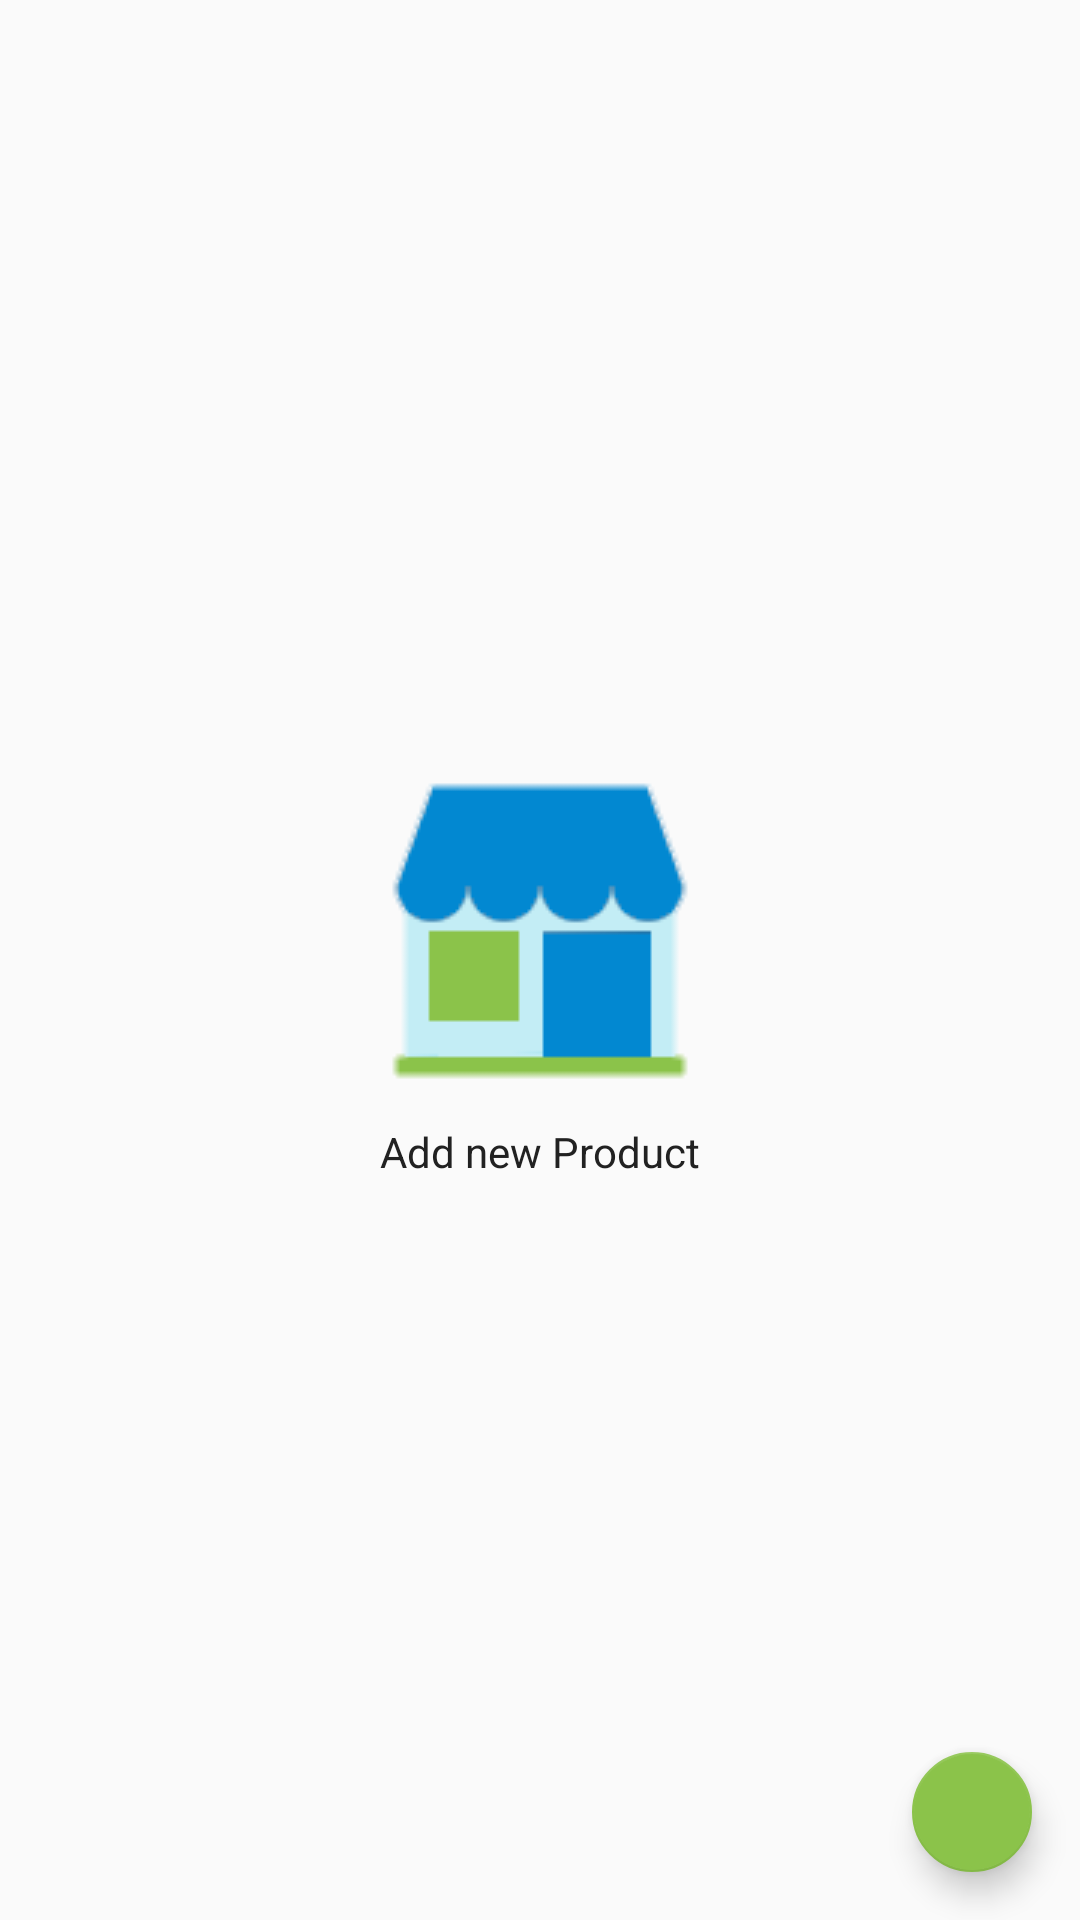

Icons on this 1080×1920 Android screen, each with its box as (x1, y1, x2, y2):
store: (393, 783, 687, 1078)
